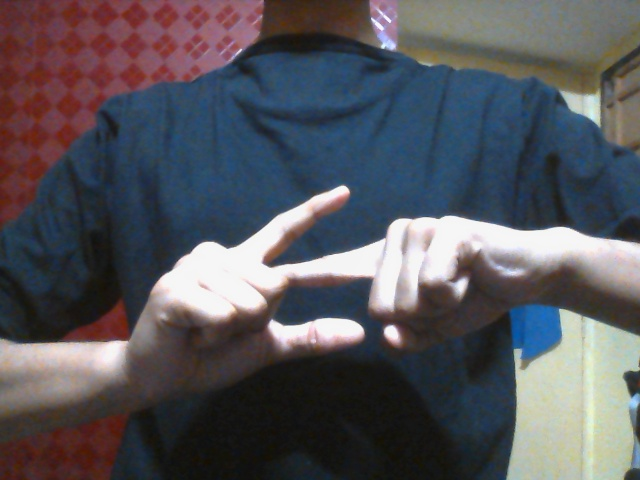E: (145, 184, 507, 403)
